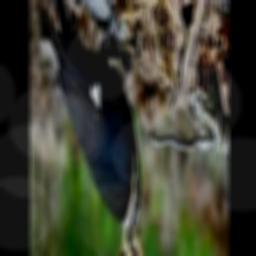Woodpecker: (37, 0, 162, 256)
